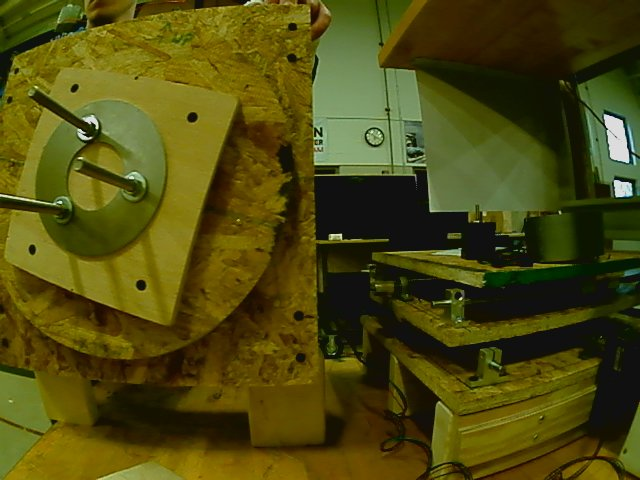bolt: (120, 169, 150, 204), (76, 114, 102, 143), (50, 195, 74, 226)
